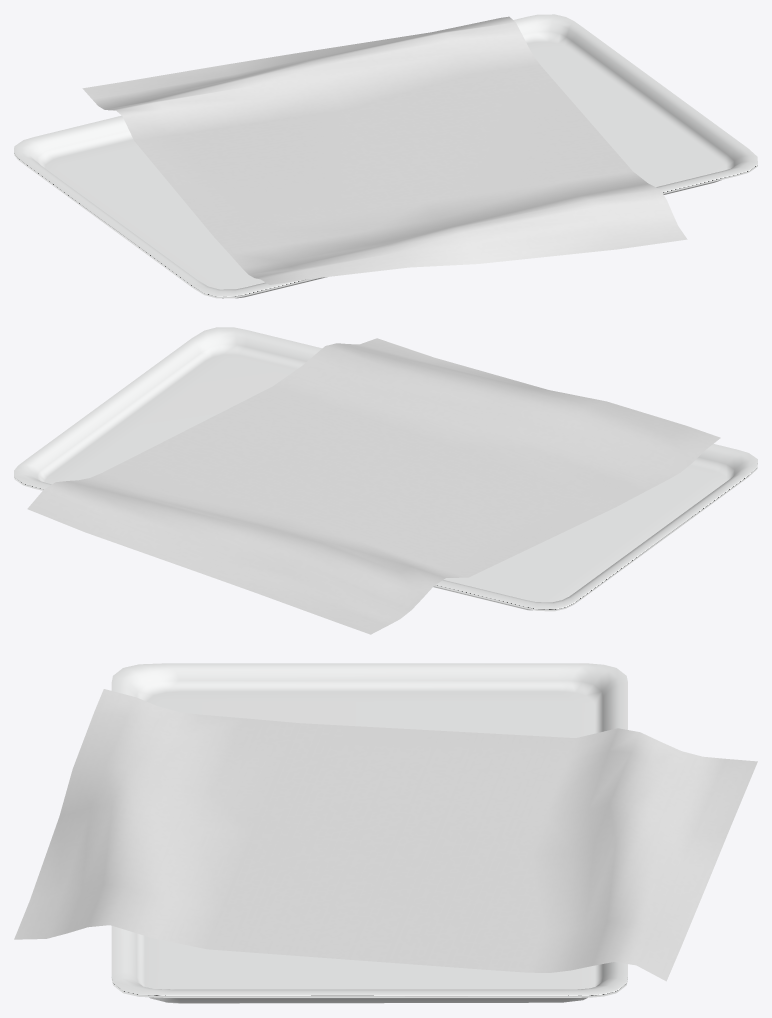
Rendered from Plate.fbx.
The picture shows the model from 3 angles, top to bottom: view 1: azimuth 30°, elevation 25°; view 2: azimuth 150°, elevation 25°; view 3: azimuth 270°, elevation 25°; orthographic projection. The views are drawn at different scales.
Visible parts, largest first — view 1: Plate; view 2: Plate; view 3: Plate.
Part boxes in pixels (<box>): Plate: <box>14,14,757,298</box>; Plate: <box>14,327,757,634</box>; Plate: <box>14,663,757,1003</box>.
Bounding box in the file's own units: 42.53 × 1.74 × 40.49.
